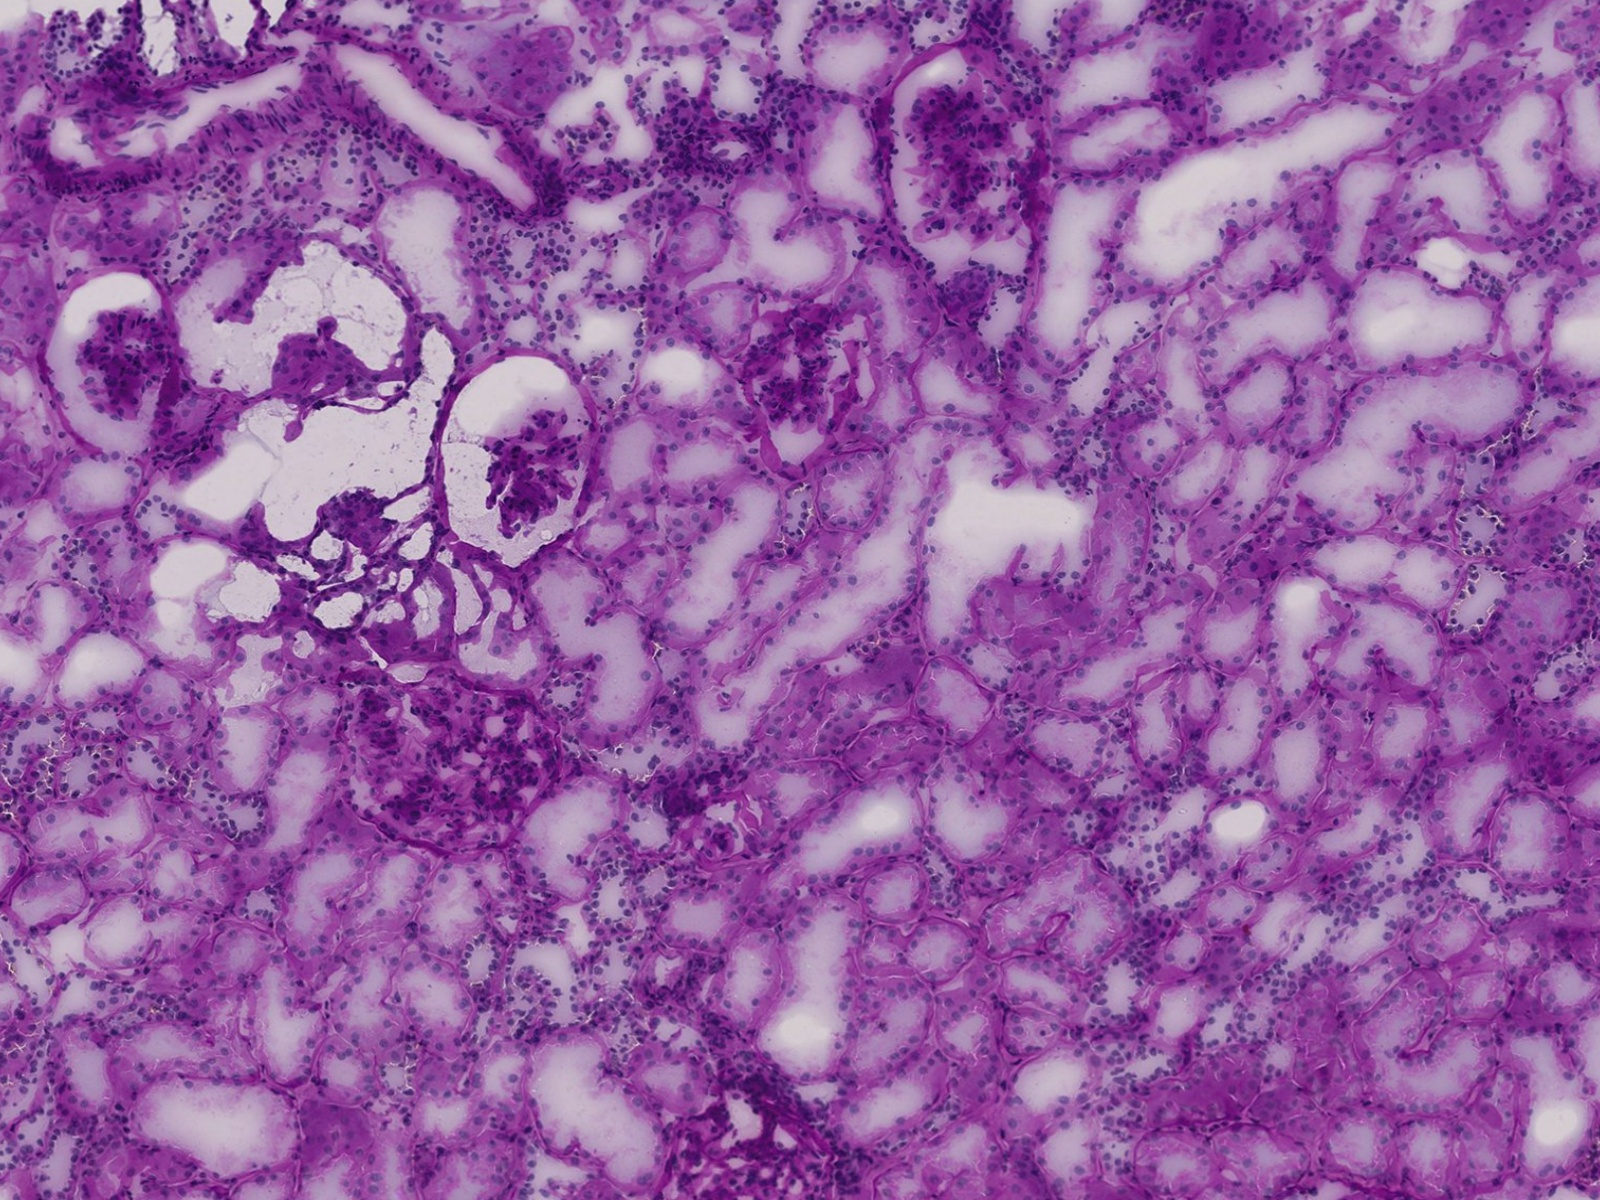Glomeruli: (345, 673, 574, 861), (889, 44, 1051, 261), (651, 1079, 845, 1199), (753, 299, 874, 449), (486, 408, 595, 546), (81, 299, 163, 417)
